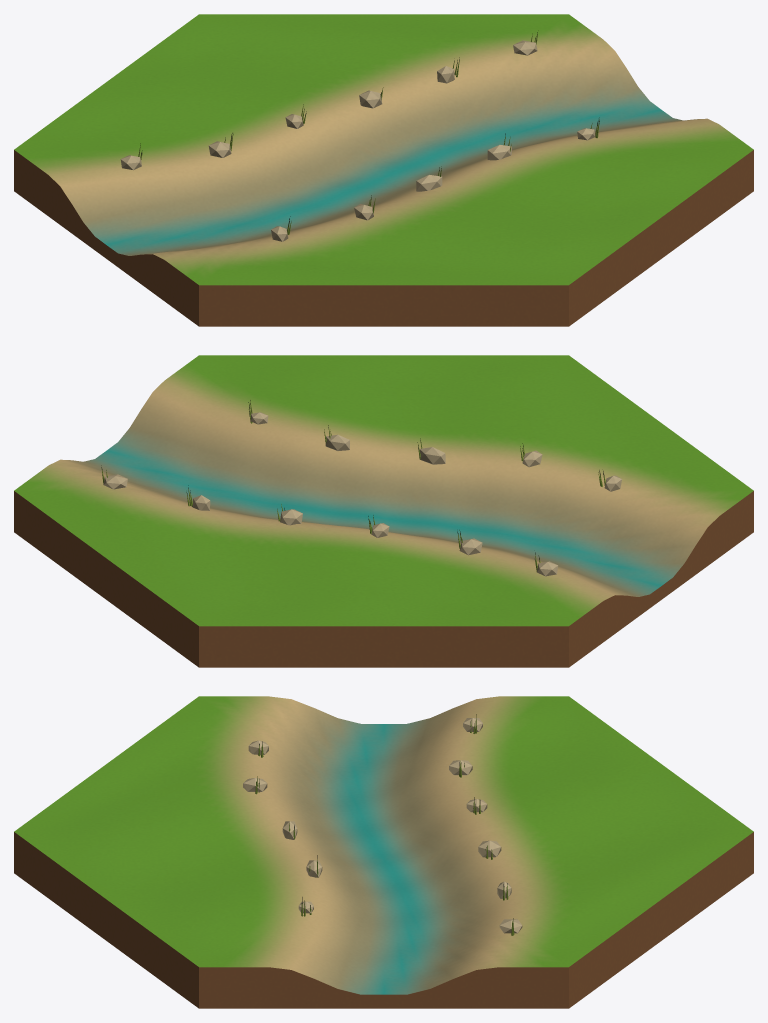
Rendered from SM_RioNatural_A_LOD0.fbx.
The picture shows the model from 3 angles, top to bottom: view 1: azimuth 30°, elevation 25°; view 2: azimuth 150°, elevation 25°; view 3: azimuth 270°, elevation 25°; orthographic projection.
Visible parts, largest first — view 1: SM_RioNatural_A_LOD0; view 2: SM_RioNatural_A_LOD0; view 3: SM_RioNatural_A_LOD0.
Part boxes in pixels (x1,y1,x2,y2): SM_RioNatural_A_LOD0: [14, 14, 753, 326]; SM_RioNatural_A_LOD0: [14, 355, 753, 667]; SM_RioNatural_A_LOD0: [14, 696, 753, 1008].
Bounding box in the file's own units: 1.68 × 0.1841 × 1.94.
Materials: 1 (1 with a texture image).
